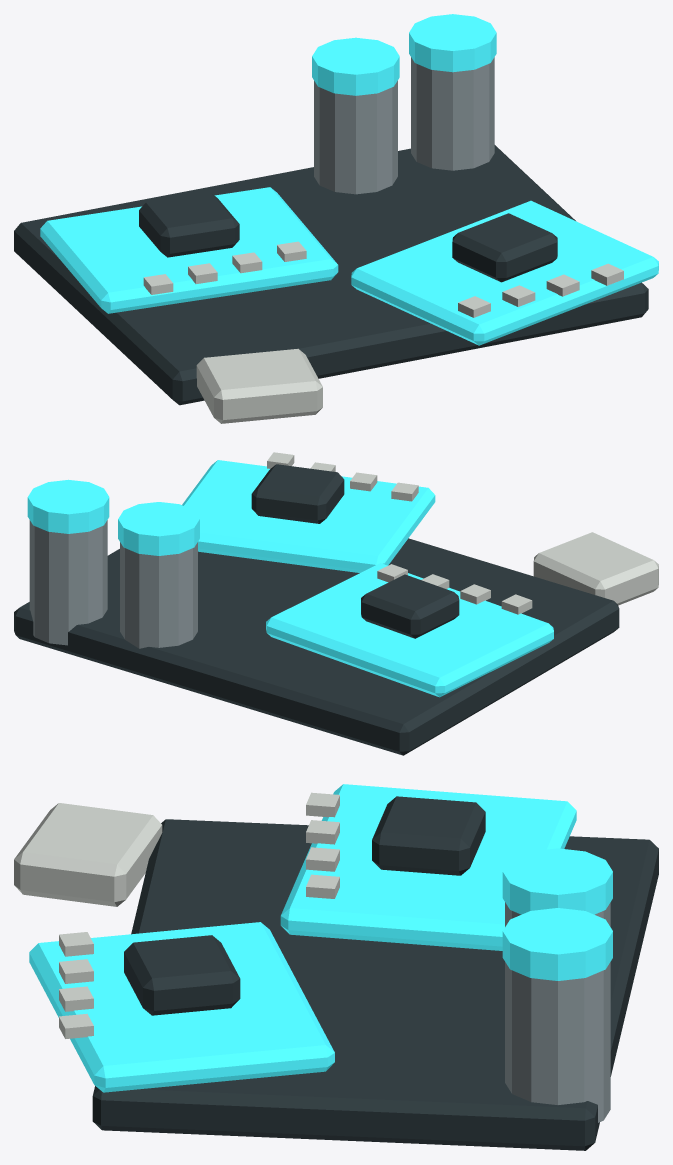
File: electronics_depleted_1.glb
3 renders of one model, top to bottom at view 1: azimuth 30°, elevation 25°; view 2: azimuth 150°, elevation 25°; view 3: azimuth 270°, elevation 25°, orthographic. The views are drawn at different scales.
Visible parts, largest first — view 1: electronics_depleted_1; view 2: electronics_depleted_1; view 3: electronics_depleted_1.
Boxes of the visible parts, x1,y1,x2,y2 form: electronics_depleted_1: [14, 14, 658, 423]; electronics_depleted_1: [14, 452, 658, 755]; electronics_depleted_1: [14, 784, 658, 1150].
Size of the model in its own units: 0.5995 by 0.1825 by 0.5492.
